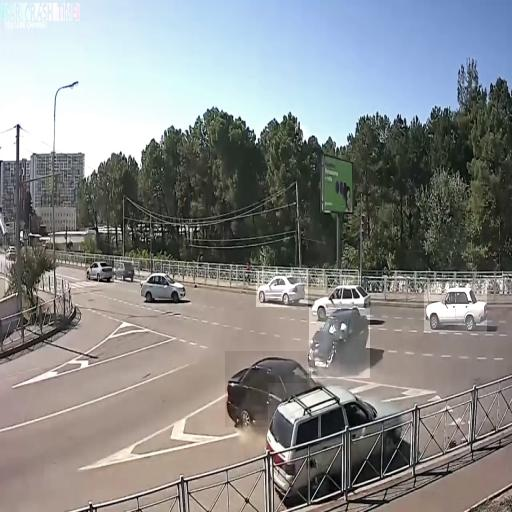小汽车: (268, 383, 402, 491), (225, 351, 307, 427), (309, 308, 370, 378), (424, 284, 487, 332), (311, 281, 374, 320), (256, 270, 308, 307), (140, 273, 186, 304), (86, 258, 114, 282), (114, 260, 134, 282)
